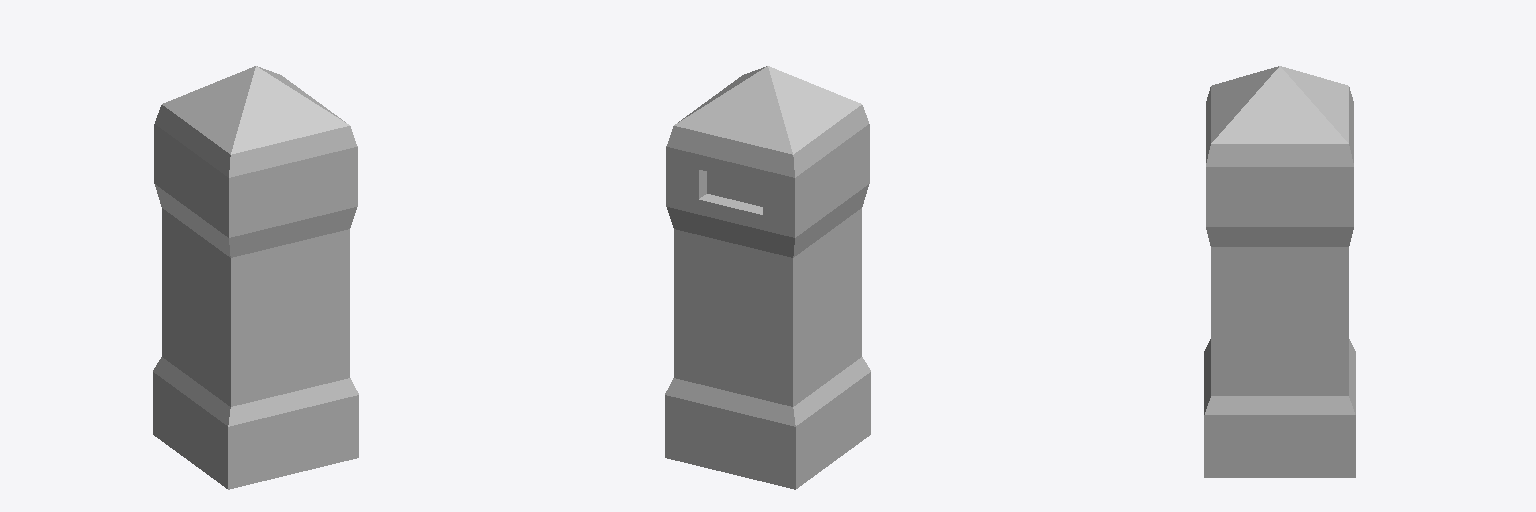
The model's file is tower2.obj.
3 renders of one model, left to right at view 1: azimuth 30°, elevation 25°; view 2: azimuth 150°, elevation 25°; view 3: azimuth 270°, elevation 25°, orthographic.
Parts seen in each view (by area): view 1: body_Cube, base_Cube.001, top_Cube.004, roff_Cube.002; view 2: body_Cube, base_Cube.001, top_Cube.004, roff_Cube.002, window_Cube.003; view 3: body_Cube, base_Cube.001, roff_Cube.002, top_Cube.004.
Part boxes in pixels (bbox=[...]): body_Cube: bbox=[153, 105, 358, 426]; base_Cube.001: bbox=[153, 372, 358, 489]; top_Cube.004: bbox=[154, 124, 357, 237]; roff_Cube.002: bbox=[162, 66, 349, 154]; body_Cube: bbox=[665, 105, 870, 426]; base_Cube.001: bbox=[665, 372, 870, 489]; top_Cube.004: bbox=[666, 124, 869, 237]; roff_Cube.002: bbox=[674, 66, 861, 154]; window_Cube.003: bbox=[707, 172, 762, 206]; body_Cube: bbox=[1204, 87, 1355, 414]; base_Cube.001: bbox=[1204, 415, 1355, 477]; roff_Cube.002: bbox=[1211, 66, 1348, 143]; top_Cube.004: bbox=[1206, 167, 1353, 226].
Bounding box in the file's own units: 2.19 × 6.08 × 2.19.